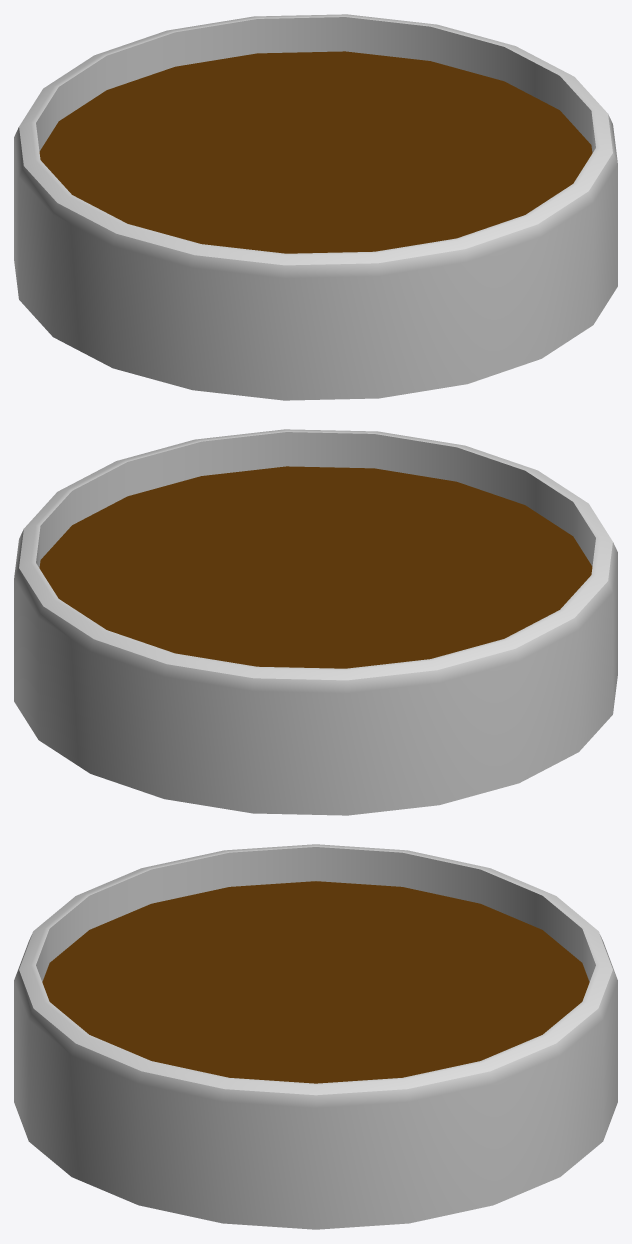
The model's file is Pet Bowl Full.fbx.
The picture shows the model from 3 angles, top to bottom: view 1: azimuth 30°, elevation 25°; view 2: azimuth 150°, elevation 25°; view 3: azimuth 270°, elevation 25°; orthographic projection.
Parts seen in each view (by area): view 1: pCylinder5; view 2: pCylinder5; view 3: pCylinder5.
Part boxes in pixels (x1,y1,x2,y2): pCylinder5: [14, 14, 617, 400]; pCylinder5: [14, 429, 617, 815]; pCylinder5: [14, 844, 617, 1229].
Bounding box in the file's own units: 4 × 1 × 4.
